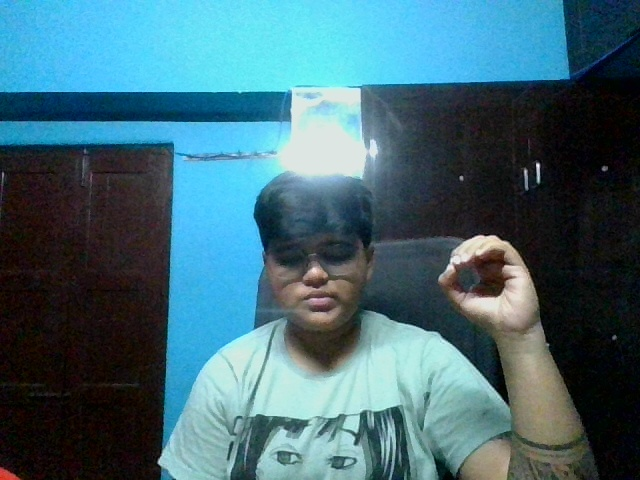O: (433, 223, 549, 347)
